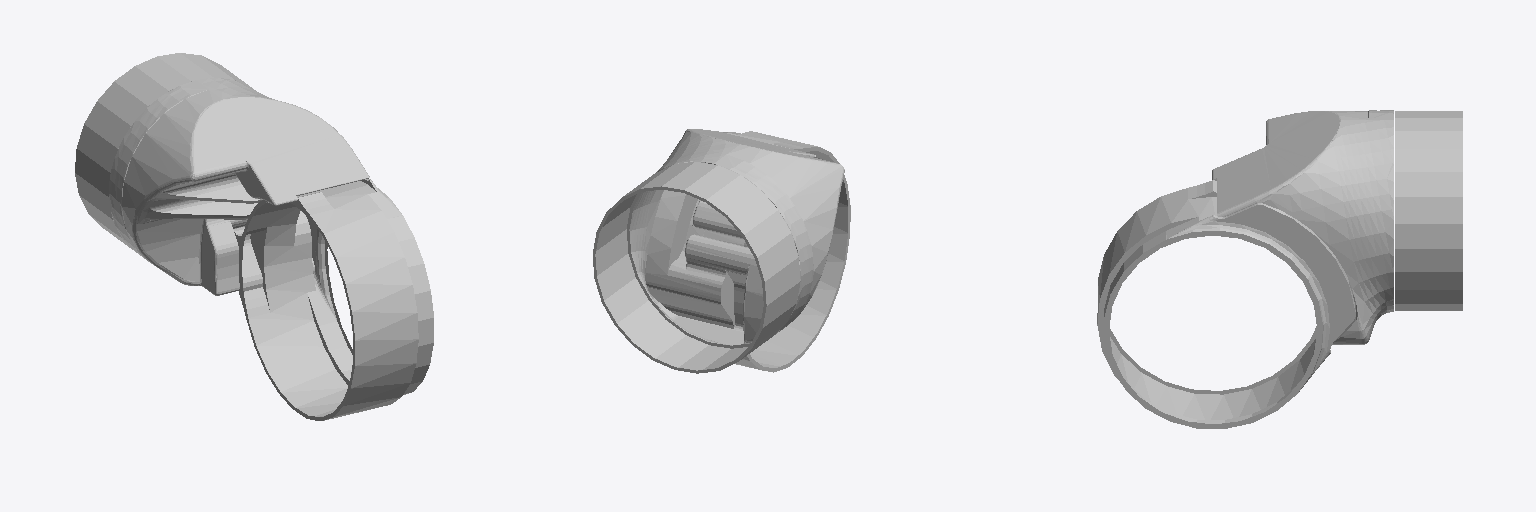
The model's file is LeftShoulderRollLink_shortBicep.obj.
The picture shows the model from 3 angles: view 1: azimuth 30°, elevation 25°; view 2: azimuth 150°, elevation 25°; view 3: azimuth 270°, elevation 25°; orthographic projection.
Bounding box in the file's own units: 0.0899 × 0.1284 × 0.1577.